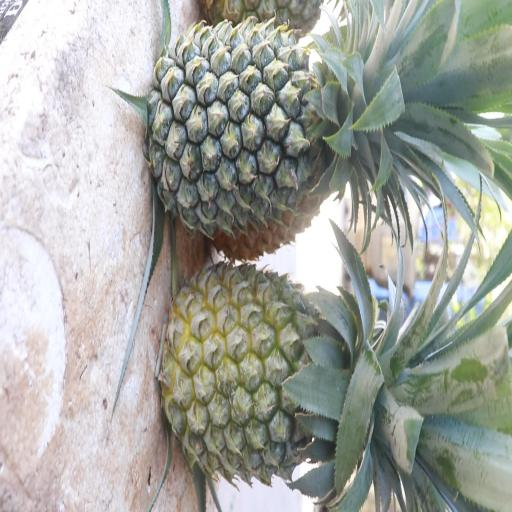------------------------------: (156, 259, 422, 487)
